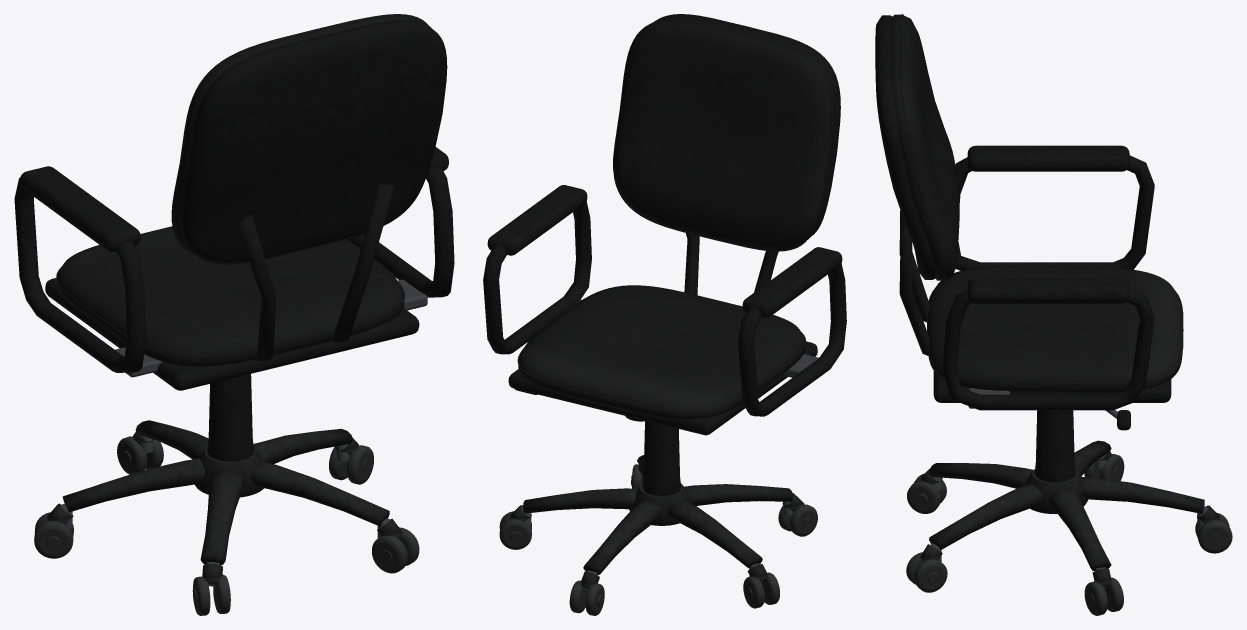
Rendered from office_chair.glb.
3 renders of one model, left to right at view 1: azimuth 30°, elevation 25°; view 2: azimuth 150°, elevation 25°; view 3: azimuth 270°, elevation 25°, orthographic. The views are drawn at different scales.
Visible parts, largest first — view 1: seat, base; view 2: seat, base; view 3: seat, base.
Boxes of the visible parts, <box> form: seat: <box>14,14,454,390</box>; base: <box>34,374,419,615</box>; seat: <box>483,14,846,435</box>; base: <box>499,421,817,615</box>; seat: <box>875,14,1183,430</box>; base: <box>906,410,1232,615</box>.
Size of the model in its own units: 0.628 by 1 by 0.6439.
Materials: 3 (3 with a texture image).
